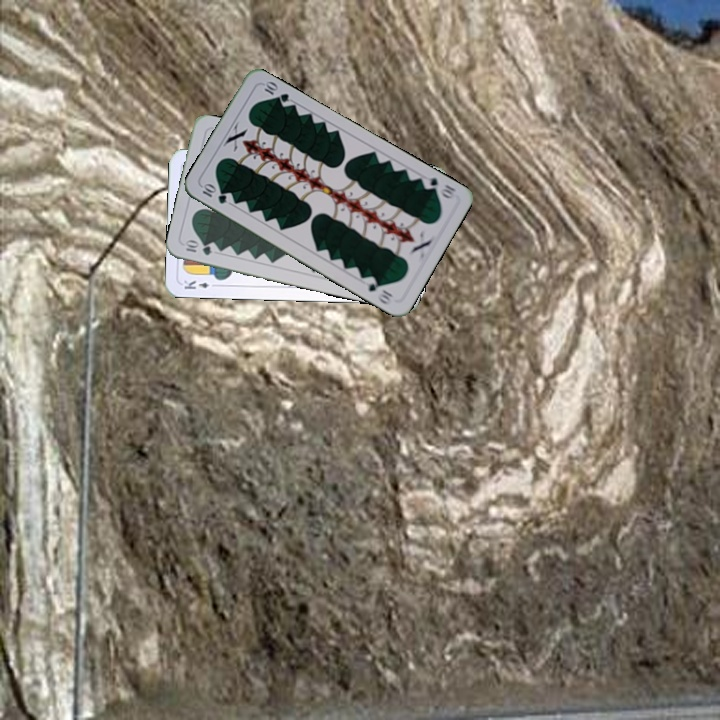EK: (180, 276, 220, 292)
G10: (418, 172, 458, 201), (198, 180, 230, 207), (180, 237, 215, 258)
